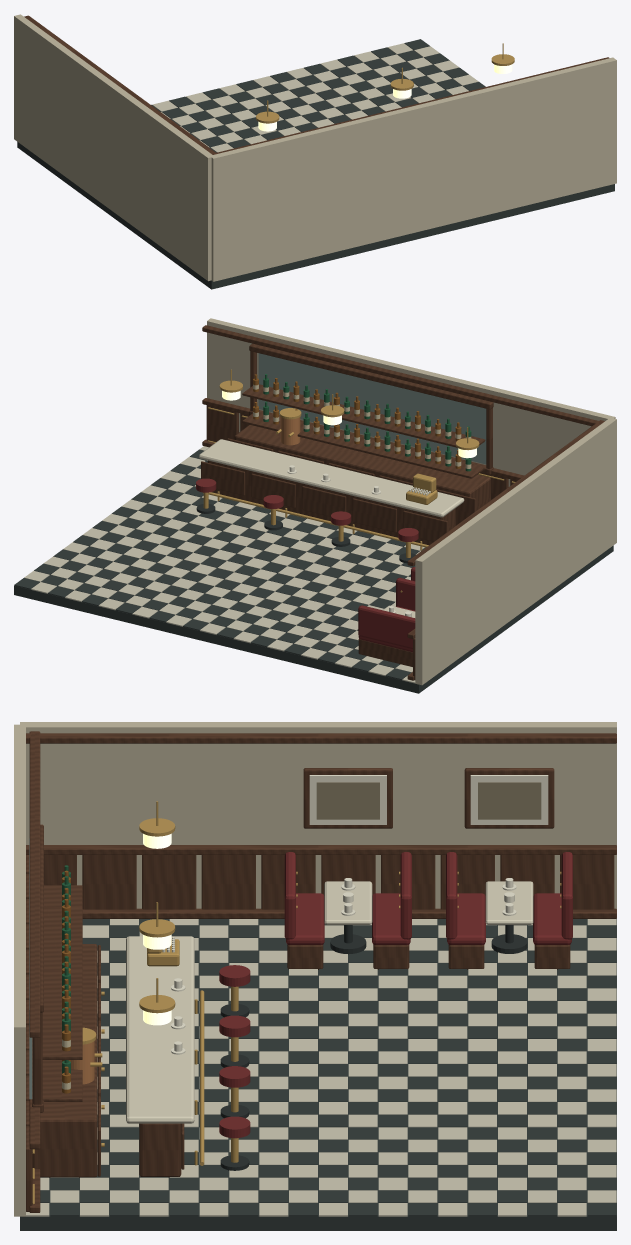
Rendered from interior-saint-agnes.glb.
The picture shows the model from 3 angles, top to bottom: view 1: azimuth 30°, elevation 25°; view 2: azimuth 150°, elevation 25°; view 3: azimuth 270°, elevation 25°; orthographic projection. The views are drawn at different scales.
Visible parts, largest first — view 1: back plaster wall, left plaster wall, cafe floor slab, mosaic tile.001, left walnut panel, back walnut panel, cupboard brass pull, opal pendant; view 2: cafe floor slab, left plaster wall, mosaic tile.001, back bar cupboard, back plaster wall, back walnut panel, silvered back bar mirror, rounded marble counter, round padded stool, cupboard brass pull, bottle body, bottle body.001 (+4 smaller); view 3: cafe floor slab, mosaic tile.001, left plaster wall, left walnut panel, back bar cupboard, rounded marble counter, round padded stool, back walnut panel, back plaster wall, cupboard brass pull, sepia picture, picture mount (+5 smaller).
Part boxes in pixels (box(x1,y1,x2,y2)): back plaster wall: box(210, 57, 616, 281); left plaster wall: box(14, 14, 212, 281); cafe floor slab: box(17, 39, 614, 289); mosaic tile.001: box(152, 43, 478, 152); left walnut panel: box(24, 15, 216, 154); back walnut panel: box(212, 57, 609, 154); cupboard brass pull: box(256, 43, 514, 123); opal pendant: box(258, 64, 512, 131); cafe floor slab: box(14, 449, 613, 693); left plaster wall: box(415, 418, 616, 685); mosaic tile.001: box(24, 446, 424, 683); back bar cupboard: box(201, 384, 490, 666); back plaster wall: box(207, 318, 615, 486); back walnut panel: box(202, 325, 603, 499); silvered back bar mirror: box(258, 353, 486, 464); rounded marble counter: box(199, 439, 464, 617); round padded stool: box(196, 478, 418, 652); cupboard brass pull: box(202, 369, 479, 592); bottle body: box(263, 374, 471, 471); bottle body.001: box(253, 374, 461, 468); cafe floor slab: box(20, 918, 616, 1230); mosaic tile.001: box(26, 919, 616, 1216); left plaster wall: box(20, 722, 616, 908); left walnut panel: box(26, 733, 616, 918); back bar cupboard: box(32, 885, 570, 1177); rounded marble counter: box(126, 881, 533, 1123); round padded stool: box(219, 852, 572, 1138); back walnut panel: box(26, 731, 43, 1212); back plaster wall: box(14, 724, 25, 1216); cupboard brass pull: box(82, 801, 561, 1165); sepia picture: box(316, 782, 541, 819); picture mount: box(309, 775, 548, 824).
Bounding box in the file's own units: 12.1 × 3.76 × 10.1.
16 materials, 1 textured.
